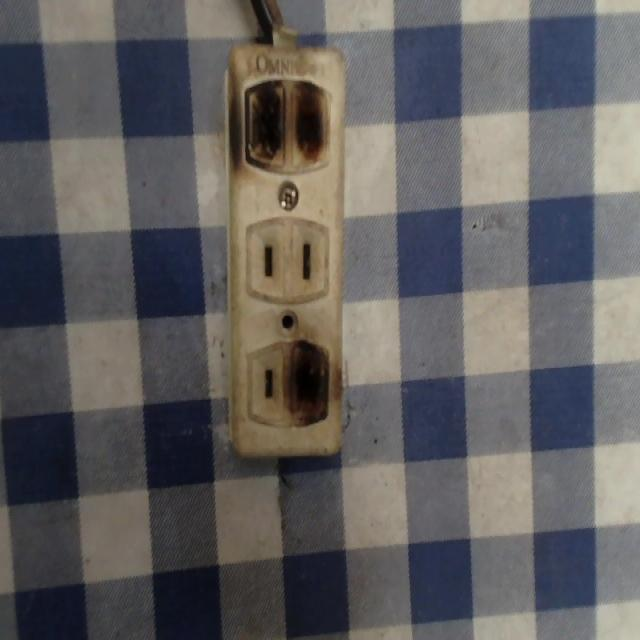-: (233, 63, 334, 176), (280, 329, 340, 434)
